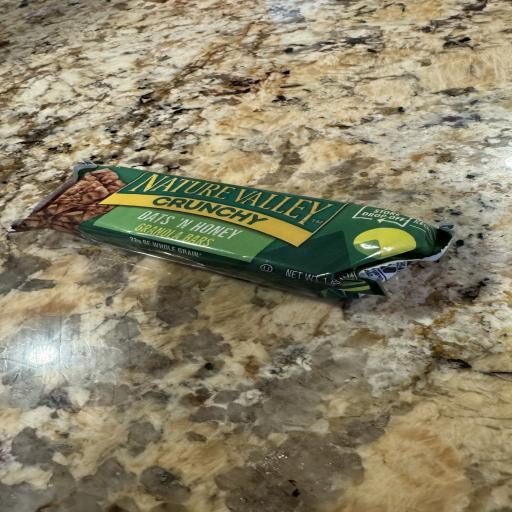granola: (10, 162, 452, 297)
